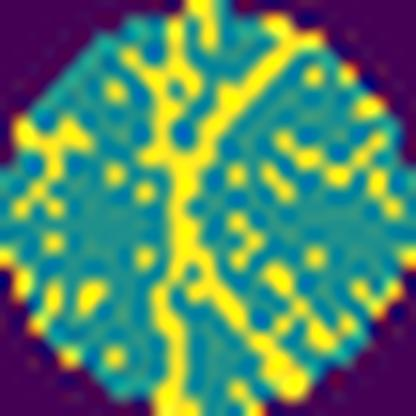Scratch: (124, 0, 325, 416)
